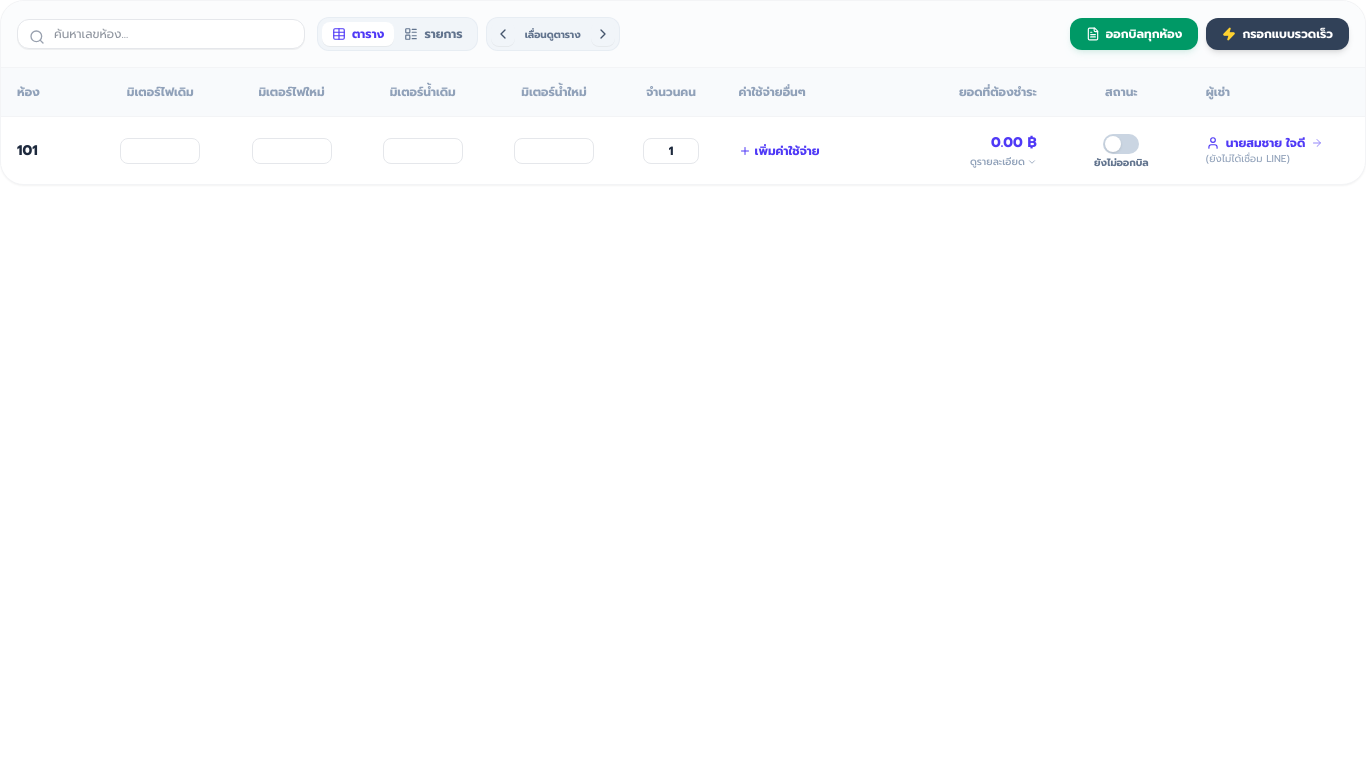
Test: OWNER R3.9-E.1A — Tiered Meter Workspace Suite › Owner Meter Workspace: Table & List Integration › Section 15-17: Table renders blank meter inputs, typing Water 100->115 and Elec 200->330 IMMEDIATELY updates visible amount to 1,045.25 ฿ before Save
Expected: the row with test id "meter-row-room-101" is shown, x1=1 y1=116 x2=1365 y2=184
In the 2nd field: {"x": 160, "y": 151} x1=120 y1=138 x2=200 y2=164, type "200"
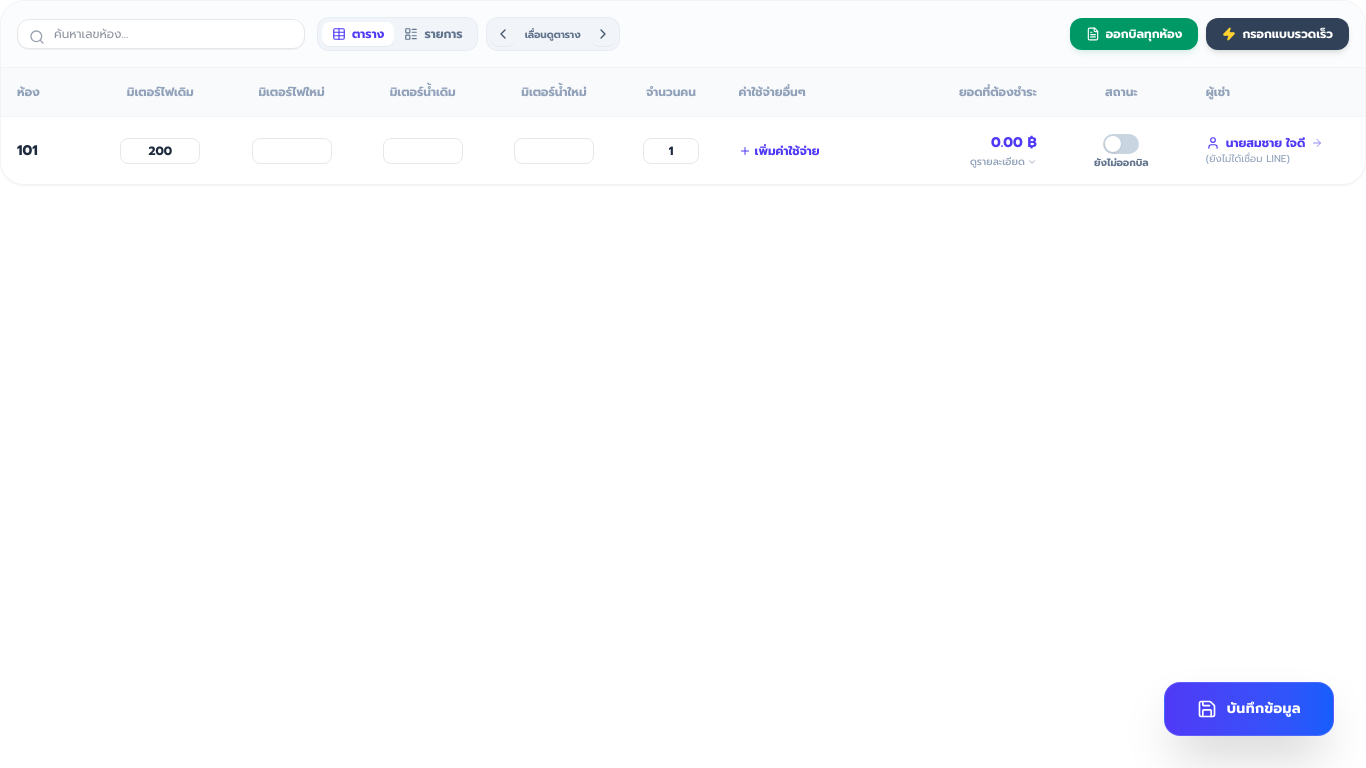
In the 3rd field: {"x": 292, "y": 151} x1=252 y1=138 x2=332 y2=164, type "330"
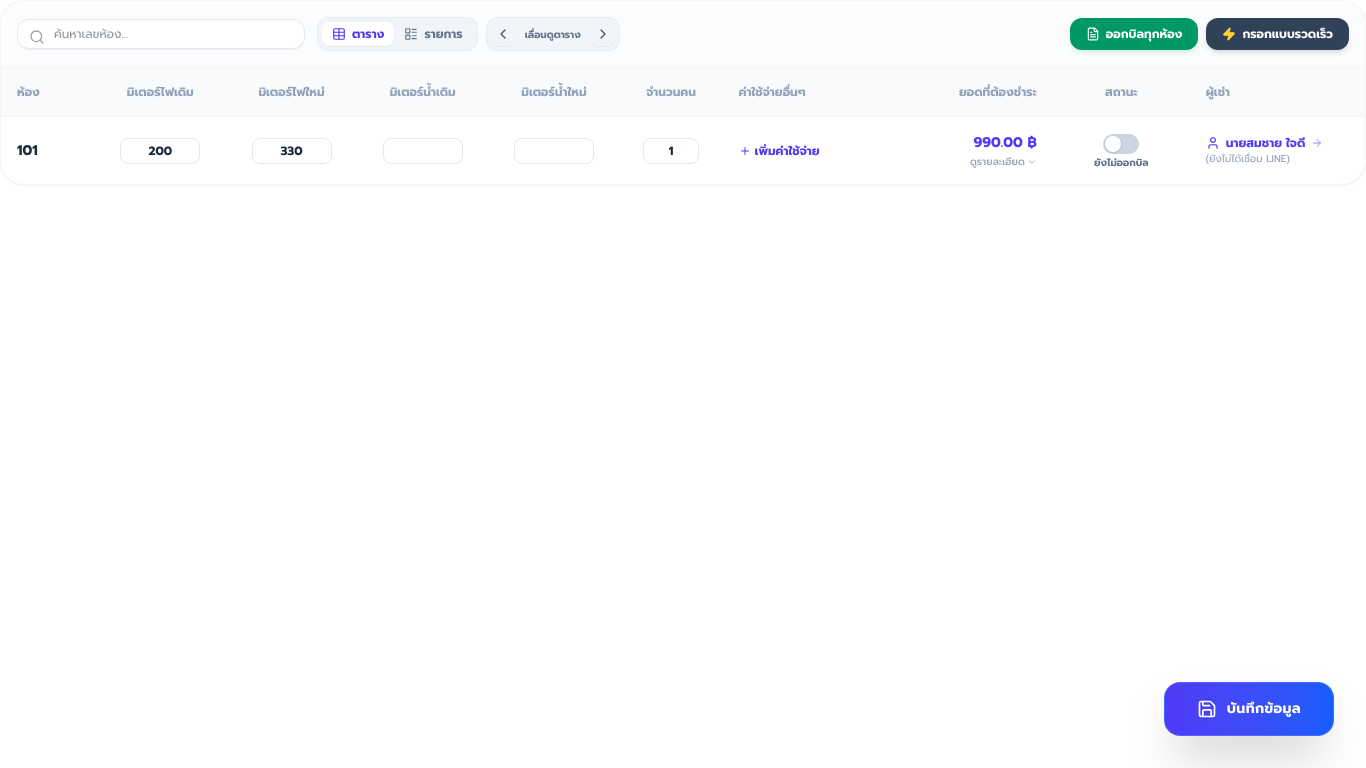
In the 4th field: {"x": 423, "y": 151} x1=383 y1=138 x2=463 y2=164, type "100"
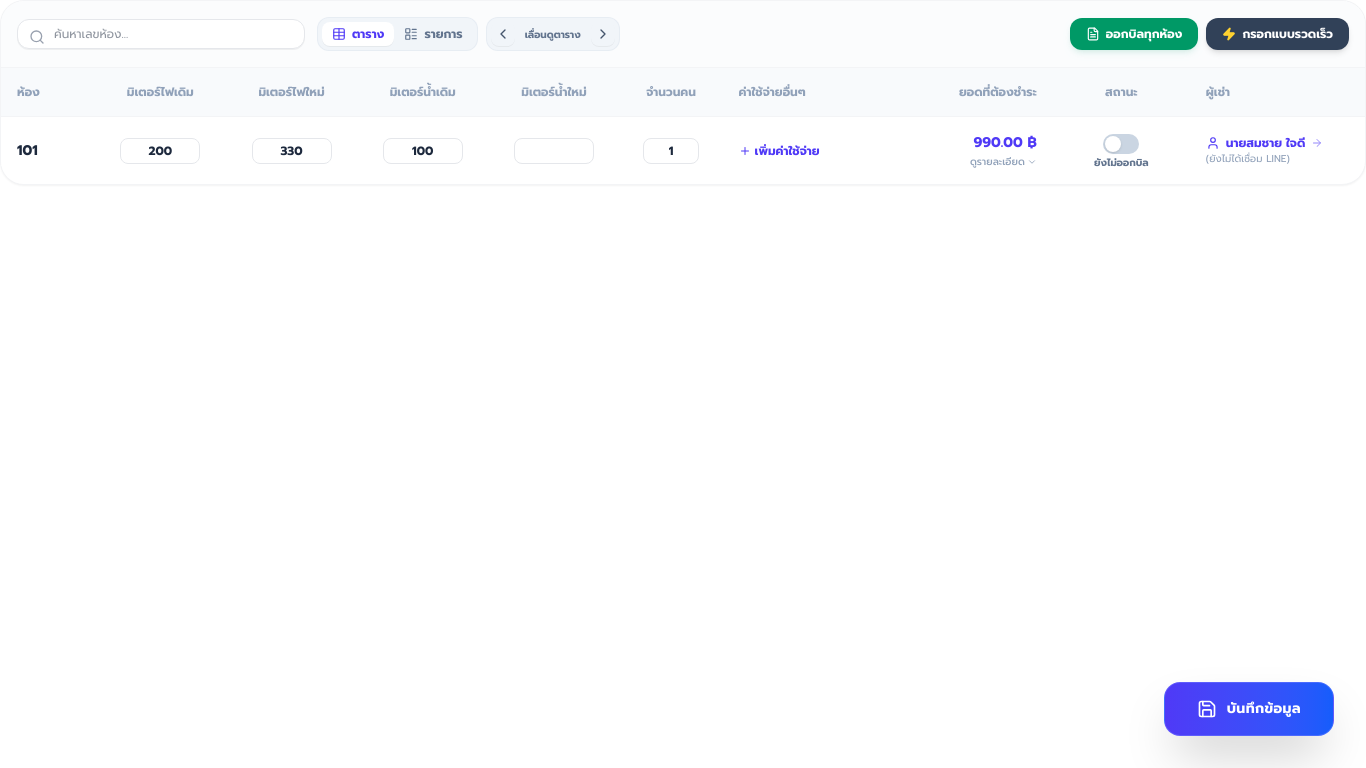
In the 5th field: {"x": 554, "y": 151} x1=514 y1=138 x2=594 y2=164, type "115"
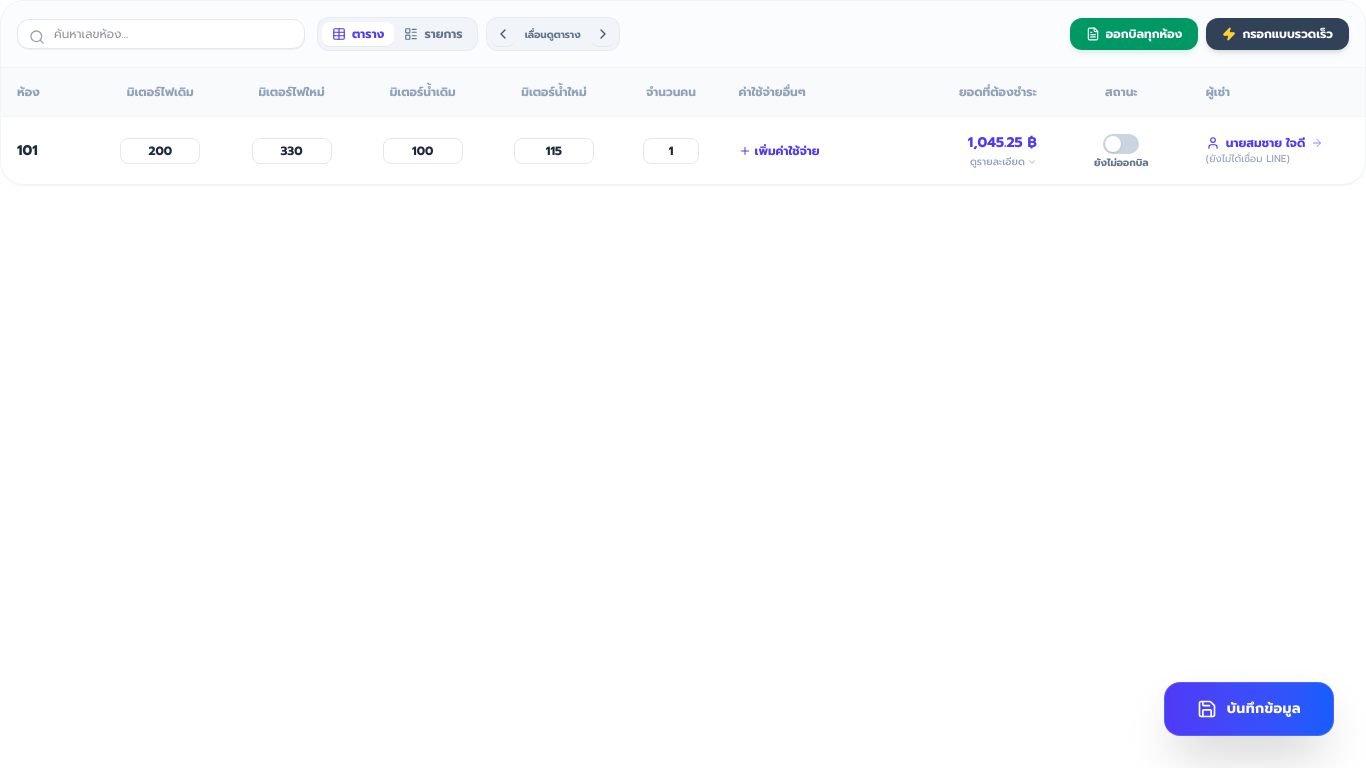
Now the text "1,045.25 ฿" is shown, box x1=968 y1=133 x2=1037 y2=153
